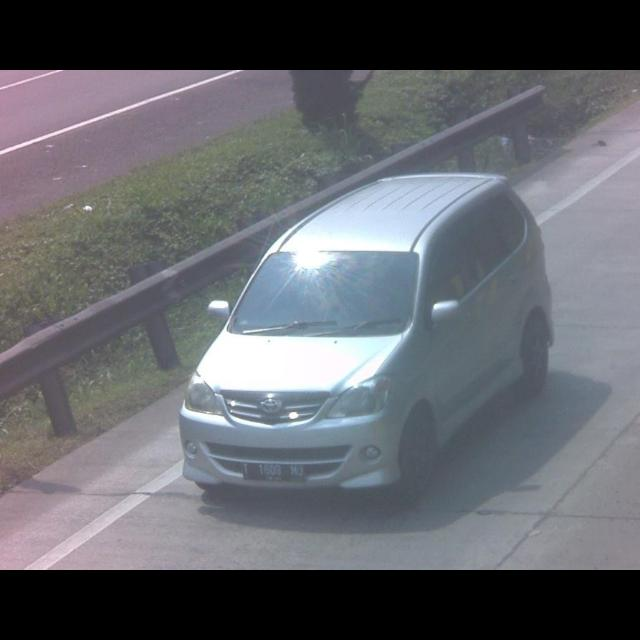plate: (240, 461, 306, 485)
